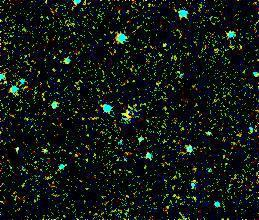star: (111, 101, 141, 131)
